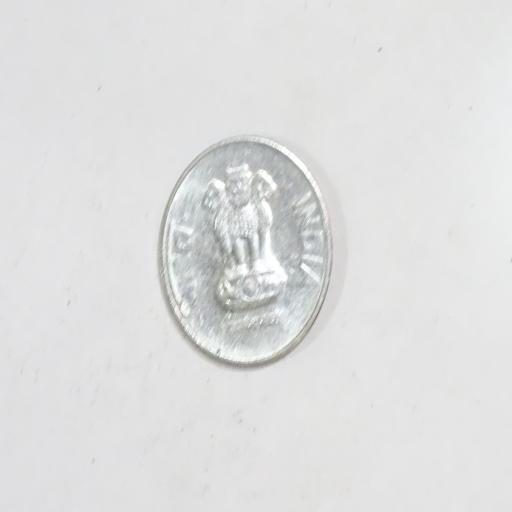rupee1: (157, 137, 333, 365)
